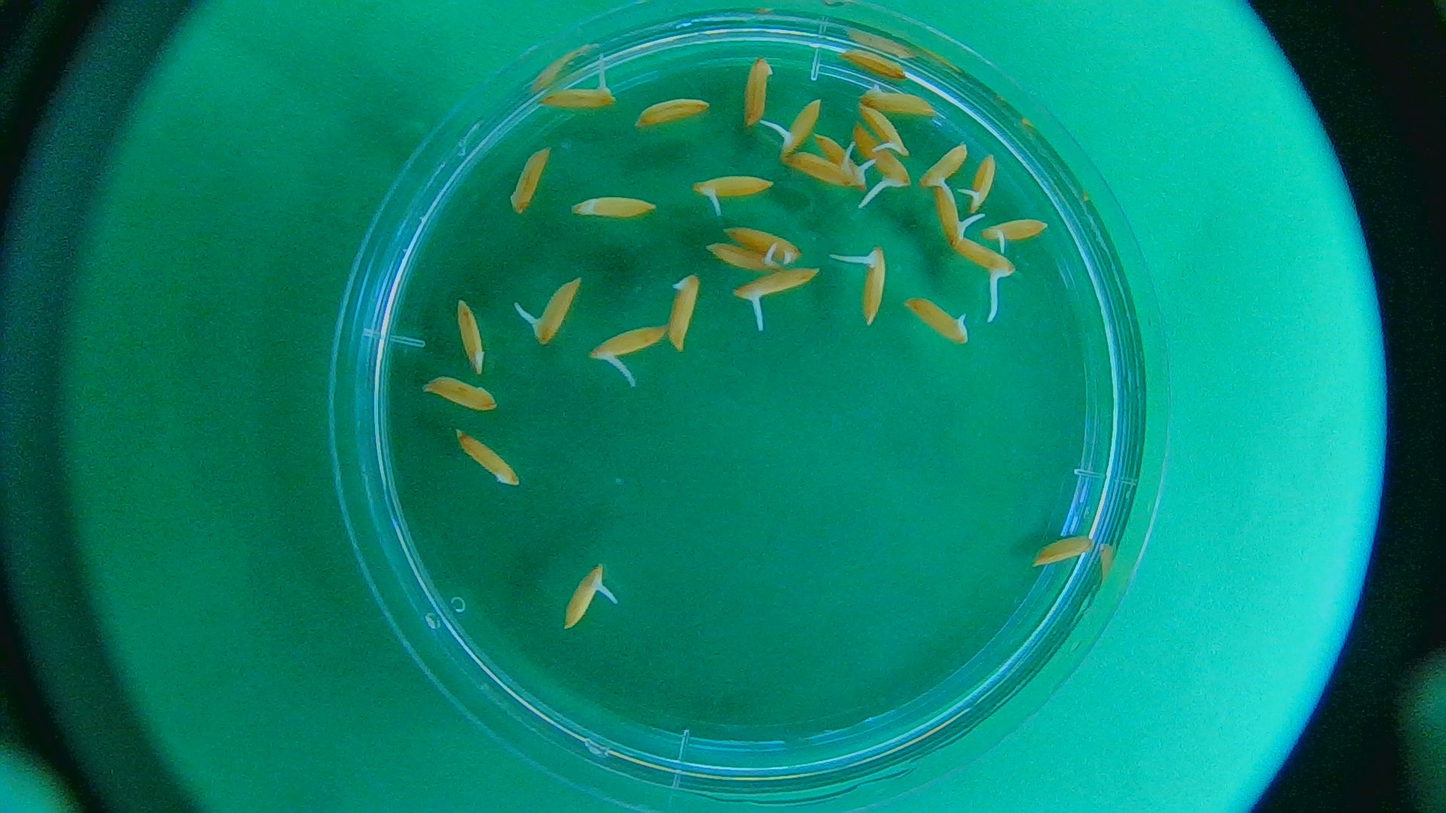no: (457, 431, 523, 486), (727, 224, 804, 262), (860, 81, 946, 115), (907, 297, 969, 343), (664, 273, 700, 352), (508, 148, 549, 215), (455, 300, 490, 376), (636, 96, 711, 131), (426, 376, 496, 410), (839, 47, 907, 80), (743, 53, 773, 126), (572, 195, 655, 219), (1036, 534, 1096, 565)
yes: (852, 125, 910, 188), (561, 561, 609, 631), (530, 282, 580, 346), (736, 265, 819, 303), (859, 103, 915, 159), (777, 98, 823, 163), (946, 236, 1014, 279), (916, 139, 969, 192), (592, 324, 660, 363), (535, 80, 617, 112), (703, 243, 782, 274), (822, 139, 868, 190), (791, 155, 857, 190), (861, 246, 889, 326), (934, 184, 968, 245), (695, 176, 776, 200), (964, 157, 999, 211), (981, 218, 1047, 244)
